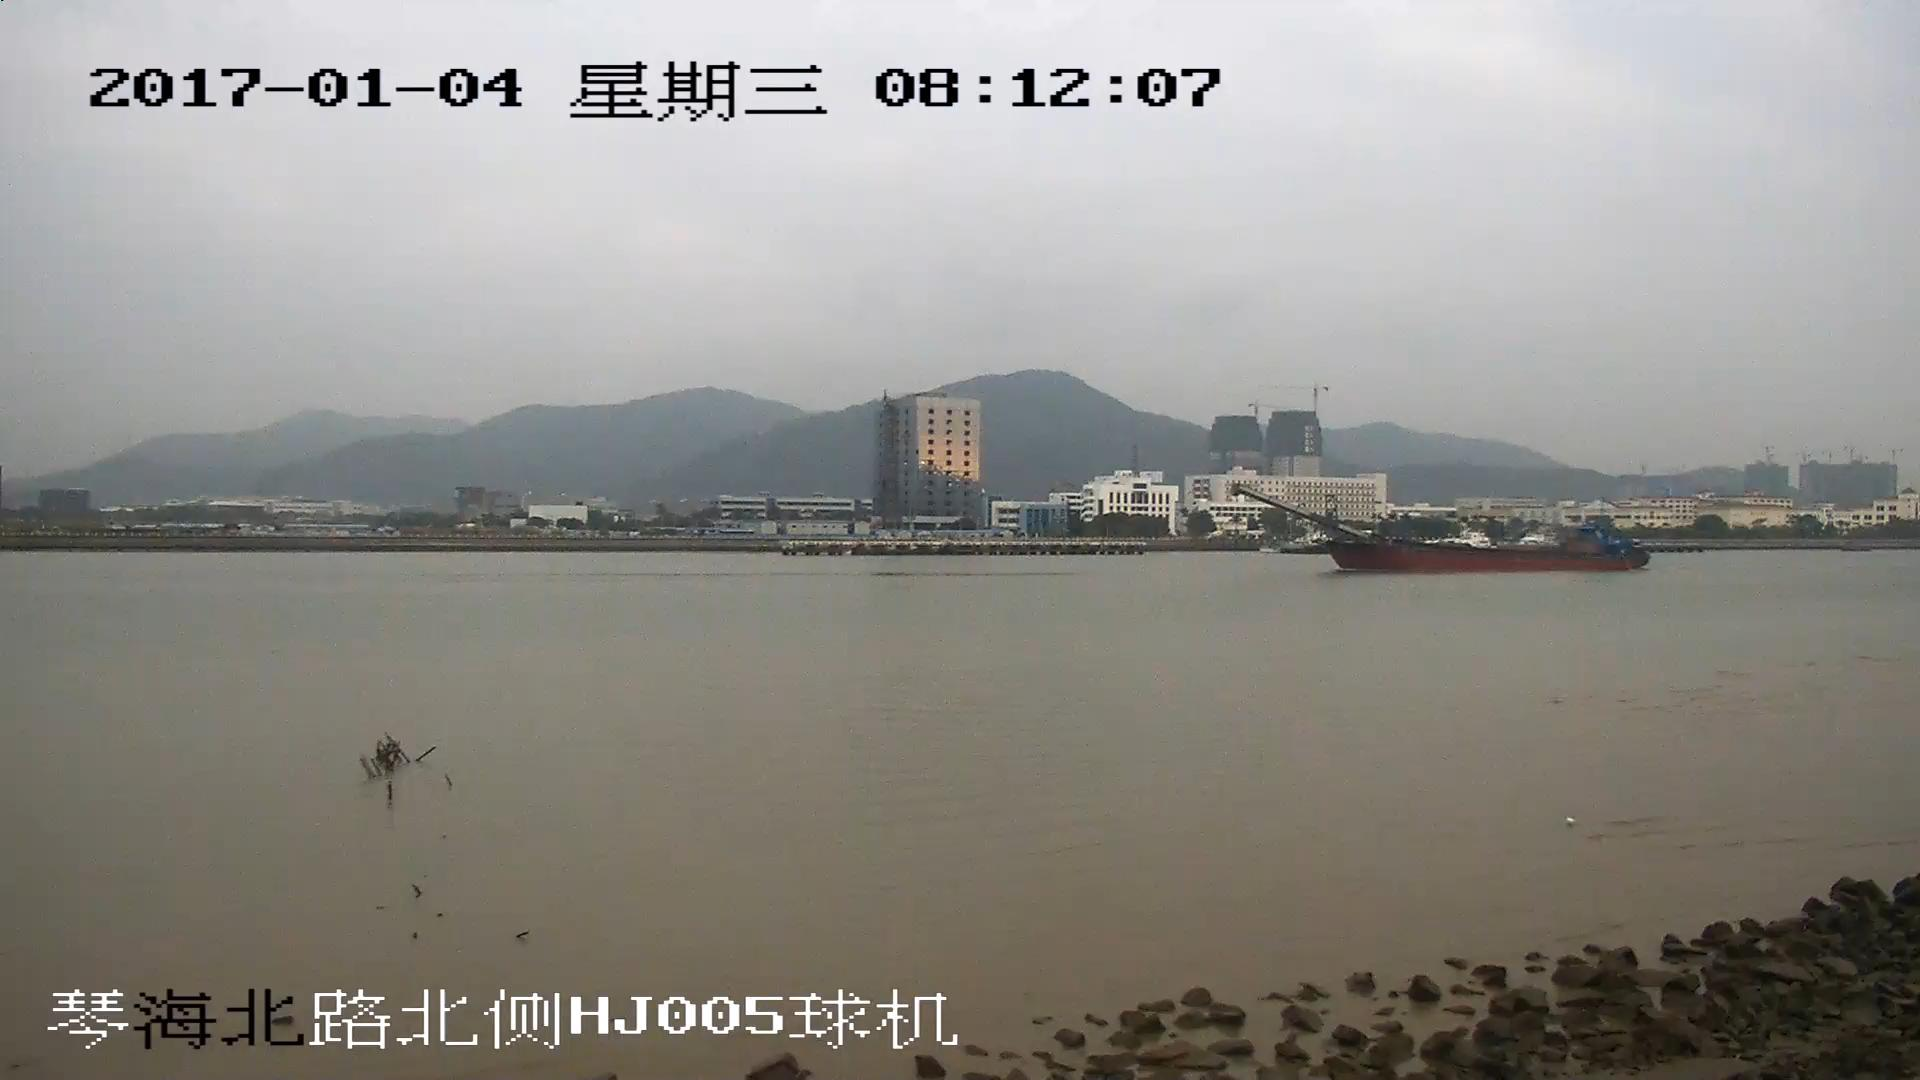Ship: (1238, 487, 1647, 571)
